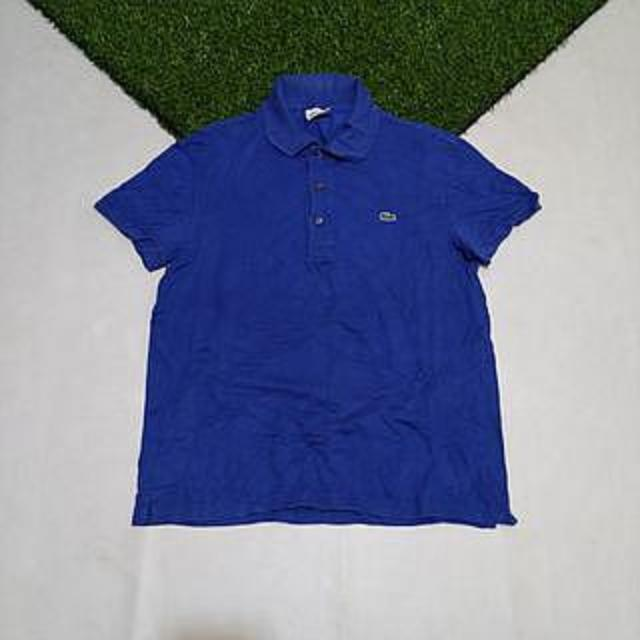T_SHIRT: (93, 64, 556, 538)
